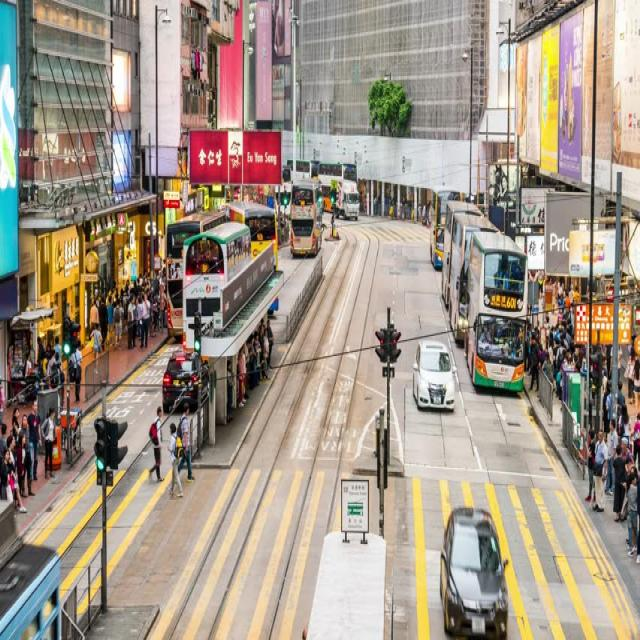body: (484, 165, 639, 472), (203, 184, 483, 229), (88, 252, 165, 340), (20, 334, 66, 402), (242, 314, 267, 402), (4, 432, 28, 519), (175, 400, 196, 483), (18, 413, 36, 499), (147, 404, 165, 484), (591, 427, 607, 512), (623, 471, 639, 556), (167, 421, 184, 499), (26, 399, 42, 481), (39, 404, 56, 480), (604, 416, 618, 496), (611, 442, 625, 522), (600, 378, 615, 446), (272, 0, 287, 64), (584, 428, 596, 503), (527, 332, 541, 392), (16, 429, 27, 500), (89, 318, 102, 374), (72, 342, 84, 402), (139, 291, 151, 348), (225, 358, 235, 426), (623, 354, 636, 406), (112, 295, 124, 349), (627, 466, 640, 514), (630, 411, 640, 472), (0, 447, 11, 501), (236, 346, 245, 410), (97, 296, 107, 352), (126, 293, 135, 351), (631, 358, 639, 418), (265, 318, 274, 371), (105, 295, 115, 341), (165, 258, 184, 282), (89, 297, 100, 336), (620, 436, 634, 465), (636, 464, 640, 564), (22, 349, 33, 380), (13, 408, 22, 444), (0, 422, 8, 458), (0, 372, 5, 422), (54, 335, 62, 361), (617, 380, 625, 405)
